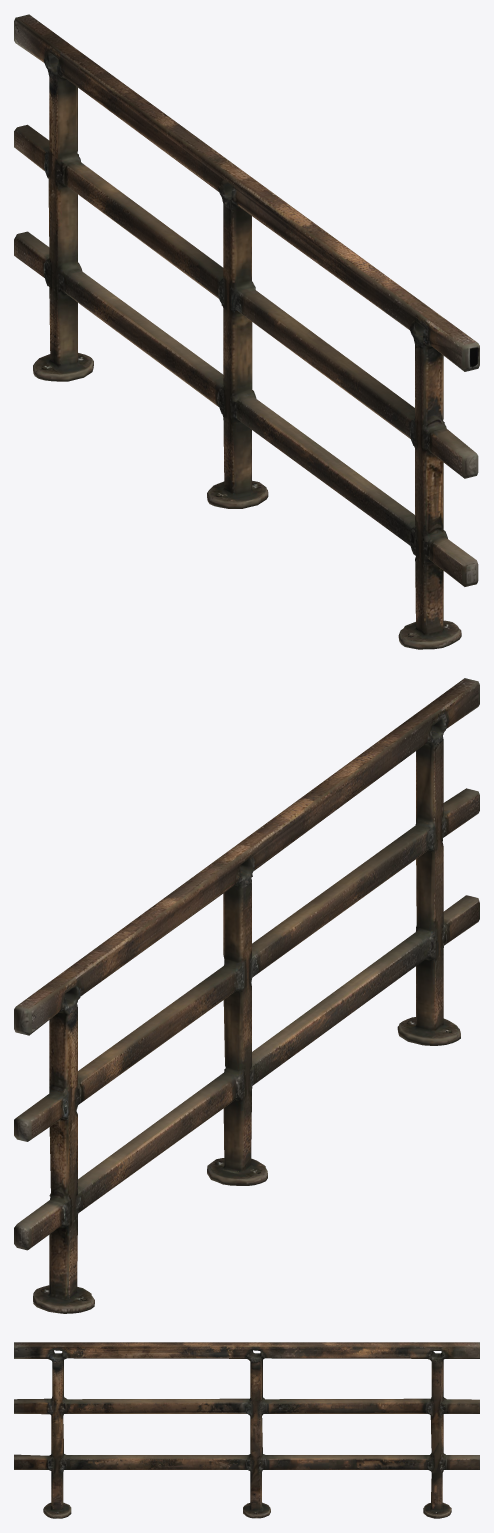
The model's file is selected.glb.
3 views of the same model, one above another, from view 1: azimuth 30°, elevation 25°; view 2: azimuth 150°, elevation 25°; view 3: azimuth 270°, elevation 25° (orthographic). The views are drawn at different scales.
Parts seen in each view (by area): view 1: tripo_node_d48d3580-1fe7-4140-979c-aa7abbe56c7e; view 2: tripo_node_d48d3580-1fe7-4140-979c-aa7abbe56c7e; view 3: tripo_node_d48d3580-1fe7-4140-979c-aa7abbe56c7e.
Part boxes in pixels (bbox=[...]): tripo_node_d48d3580-1fe7-4140-979c-aa7abbe56c7e: bbox=[14, 14, 479, 649]; tripo_node_d48d3580-1fe7-4140-979c-aa7abbe56c7e: bbox=[14, 678, 479, 1313]; tripo_node_d48d3580-1fe7-4140-979c-aa7abbe56c7e: bbox=[14, 1342, 479, 1518].
Size of the model in its own units: 0.0723 by 0.3965 by 0.998.
1 material, 1 textured.
